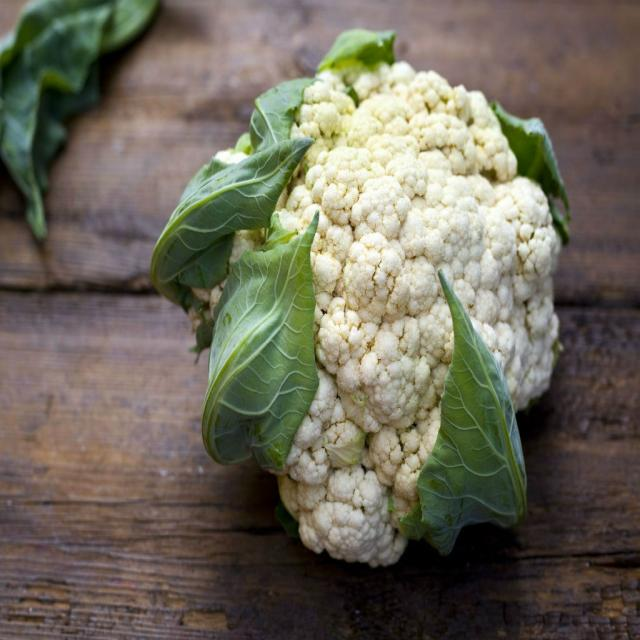Cauliflower head: (172, 0, 590, 583)
